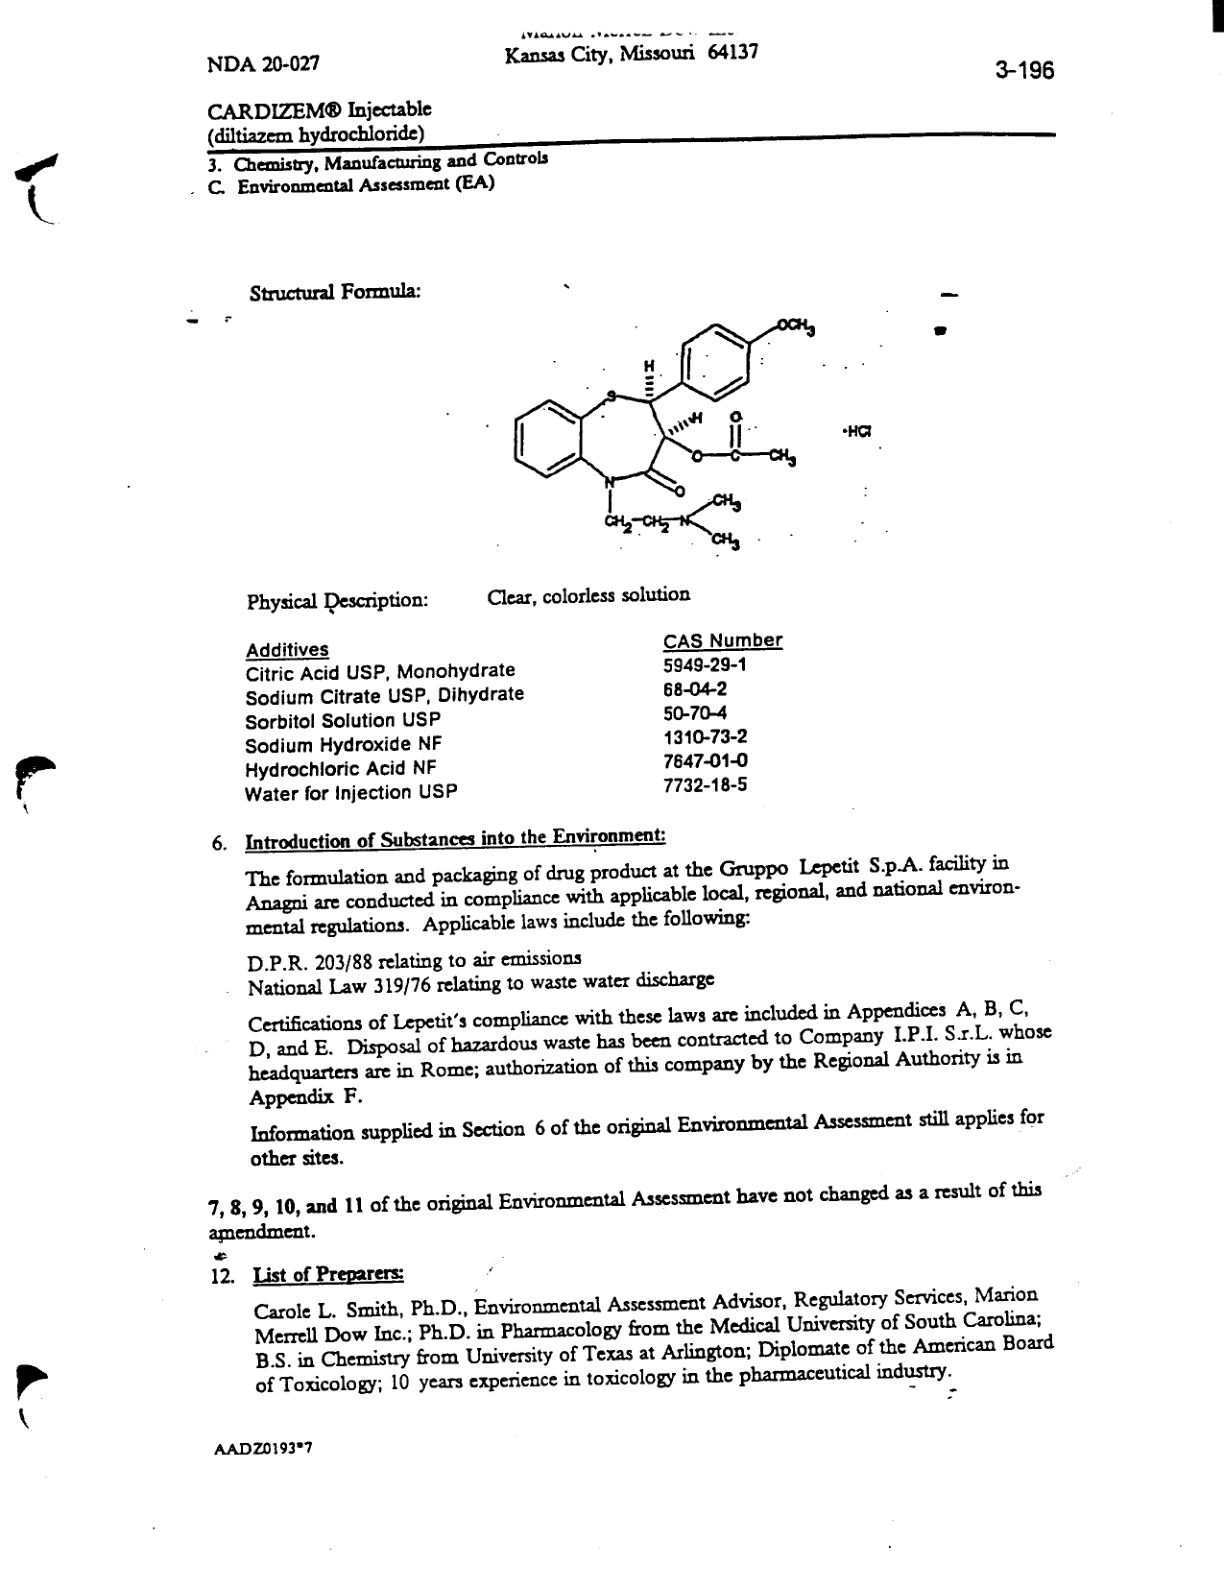nolines: (239, 633, 784, 801)
